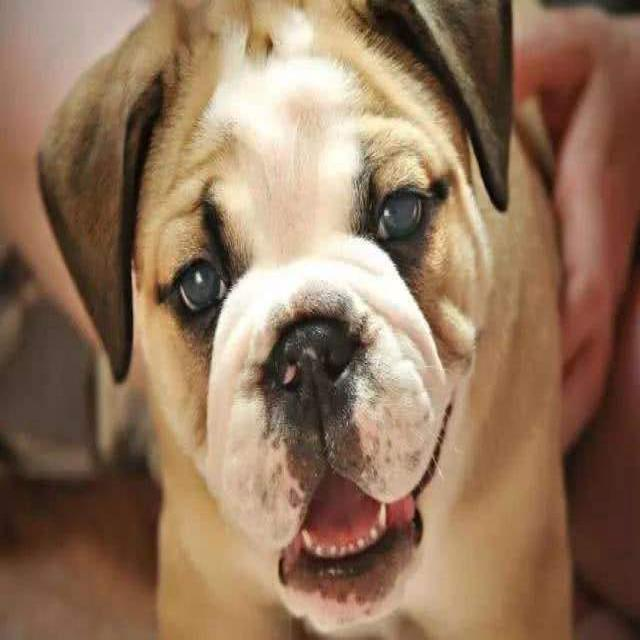eye: (371, 181, 436, 251), (172, 252, 232, 318)
